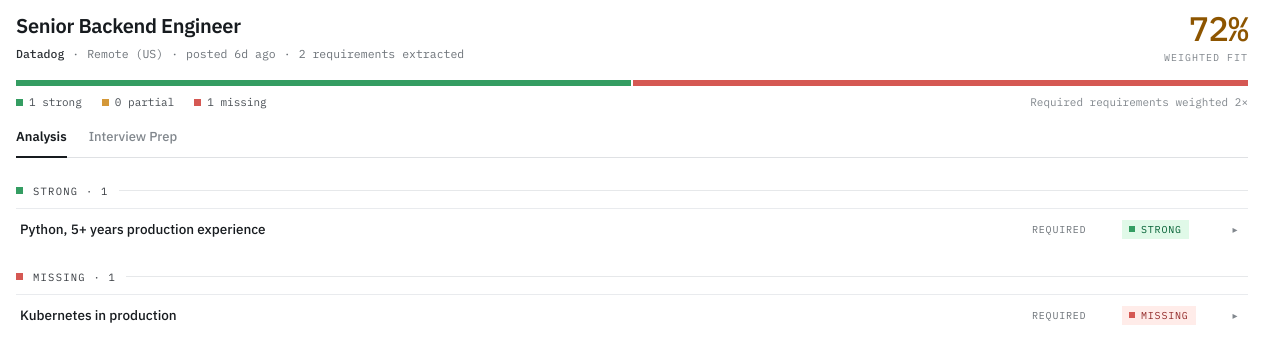
Test: AnalysisPane › disables the retry-prep button while a prep retry is already in flight
The width and height of the screenshot is (1266, 356).
Click the tab "Interview Prep": (133, 142) [89, 127, 177, 158]
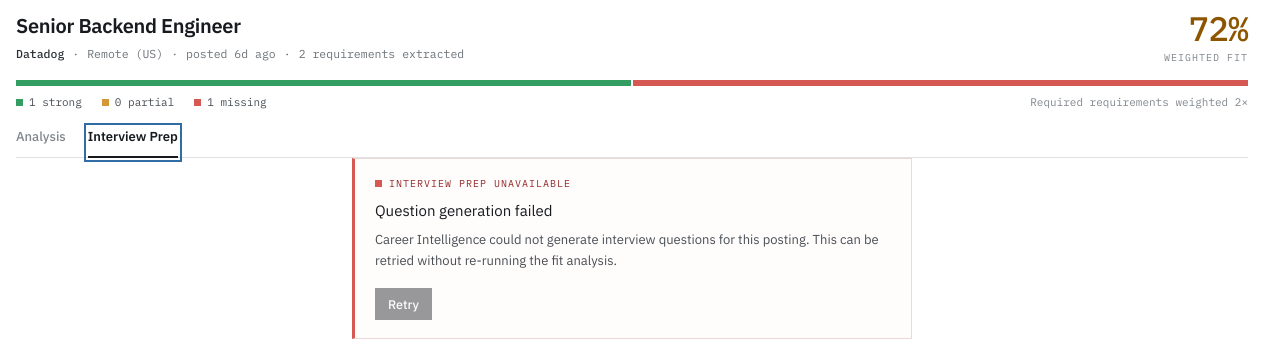
Expected: the button "Retry" is disabled, [375, 288, 432, 320]
